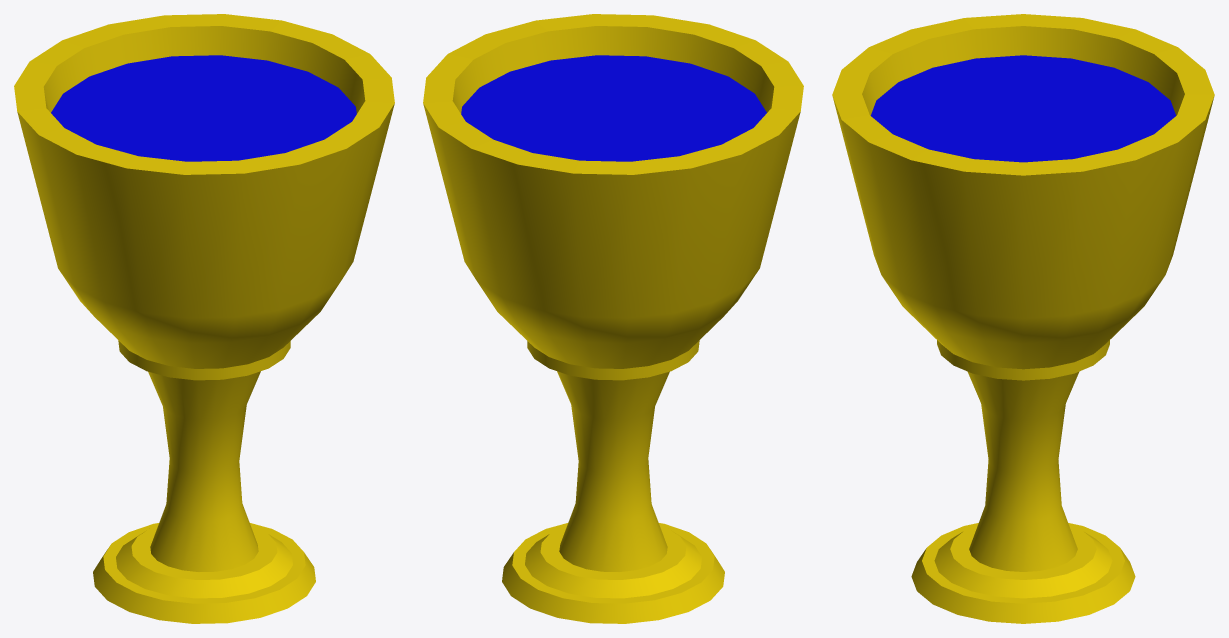
File: Mana Chalice.fbx
3 renders of one model, left to right at view 1: azimuth 30°, elevation 25°; view 2: azimuth 150°, elevation 25°; view 3: azimuth 270°, elevation 25°, orthographic.
Visible parts, largest first — view 1: Cup, Liquid; view 2: Cup, Liquid; view 3: Cup, Liquid.
Part boxes in pixels (x1,y1,x2,y2): Cup: (14,14,394,623); Liquid: (51,55,356,161); Cup: (423,14,803,623); Liquid: (461,55,766,161); Cup: (832,14,1214,623); Liquid: (870,55,1176,162).
Bounding box in the file's own units: 1.07 × 1.49 × 1.07.
